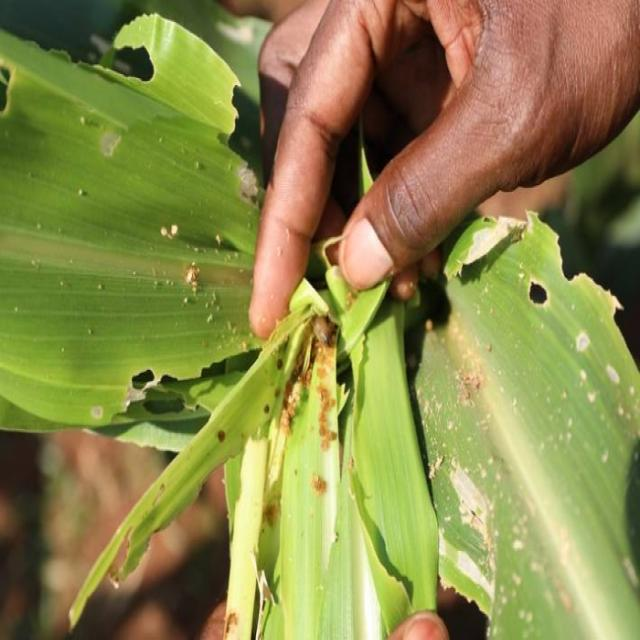Fall-armyworm: (315, 315, 336, 351)
